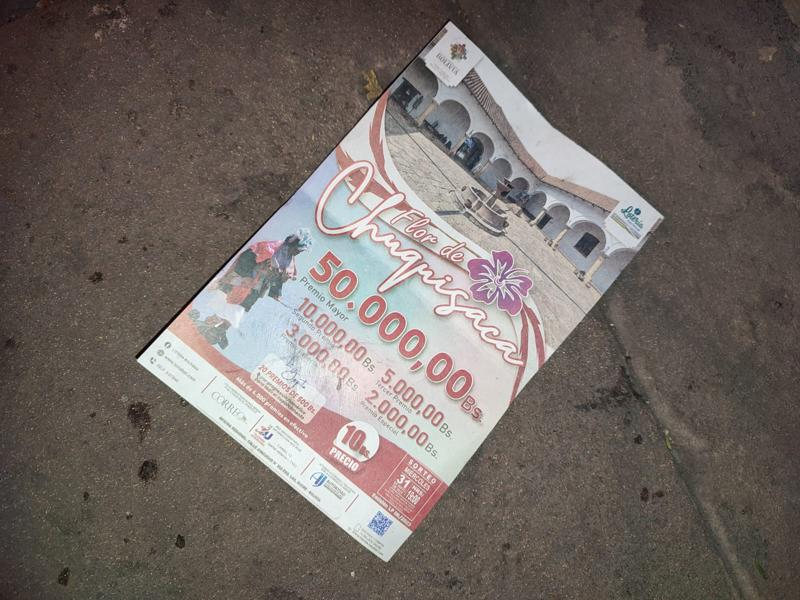papel: (135, 24, 662, 565)
